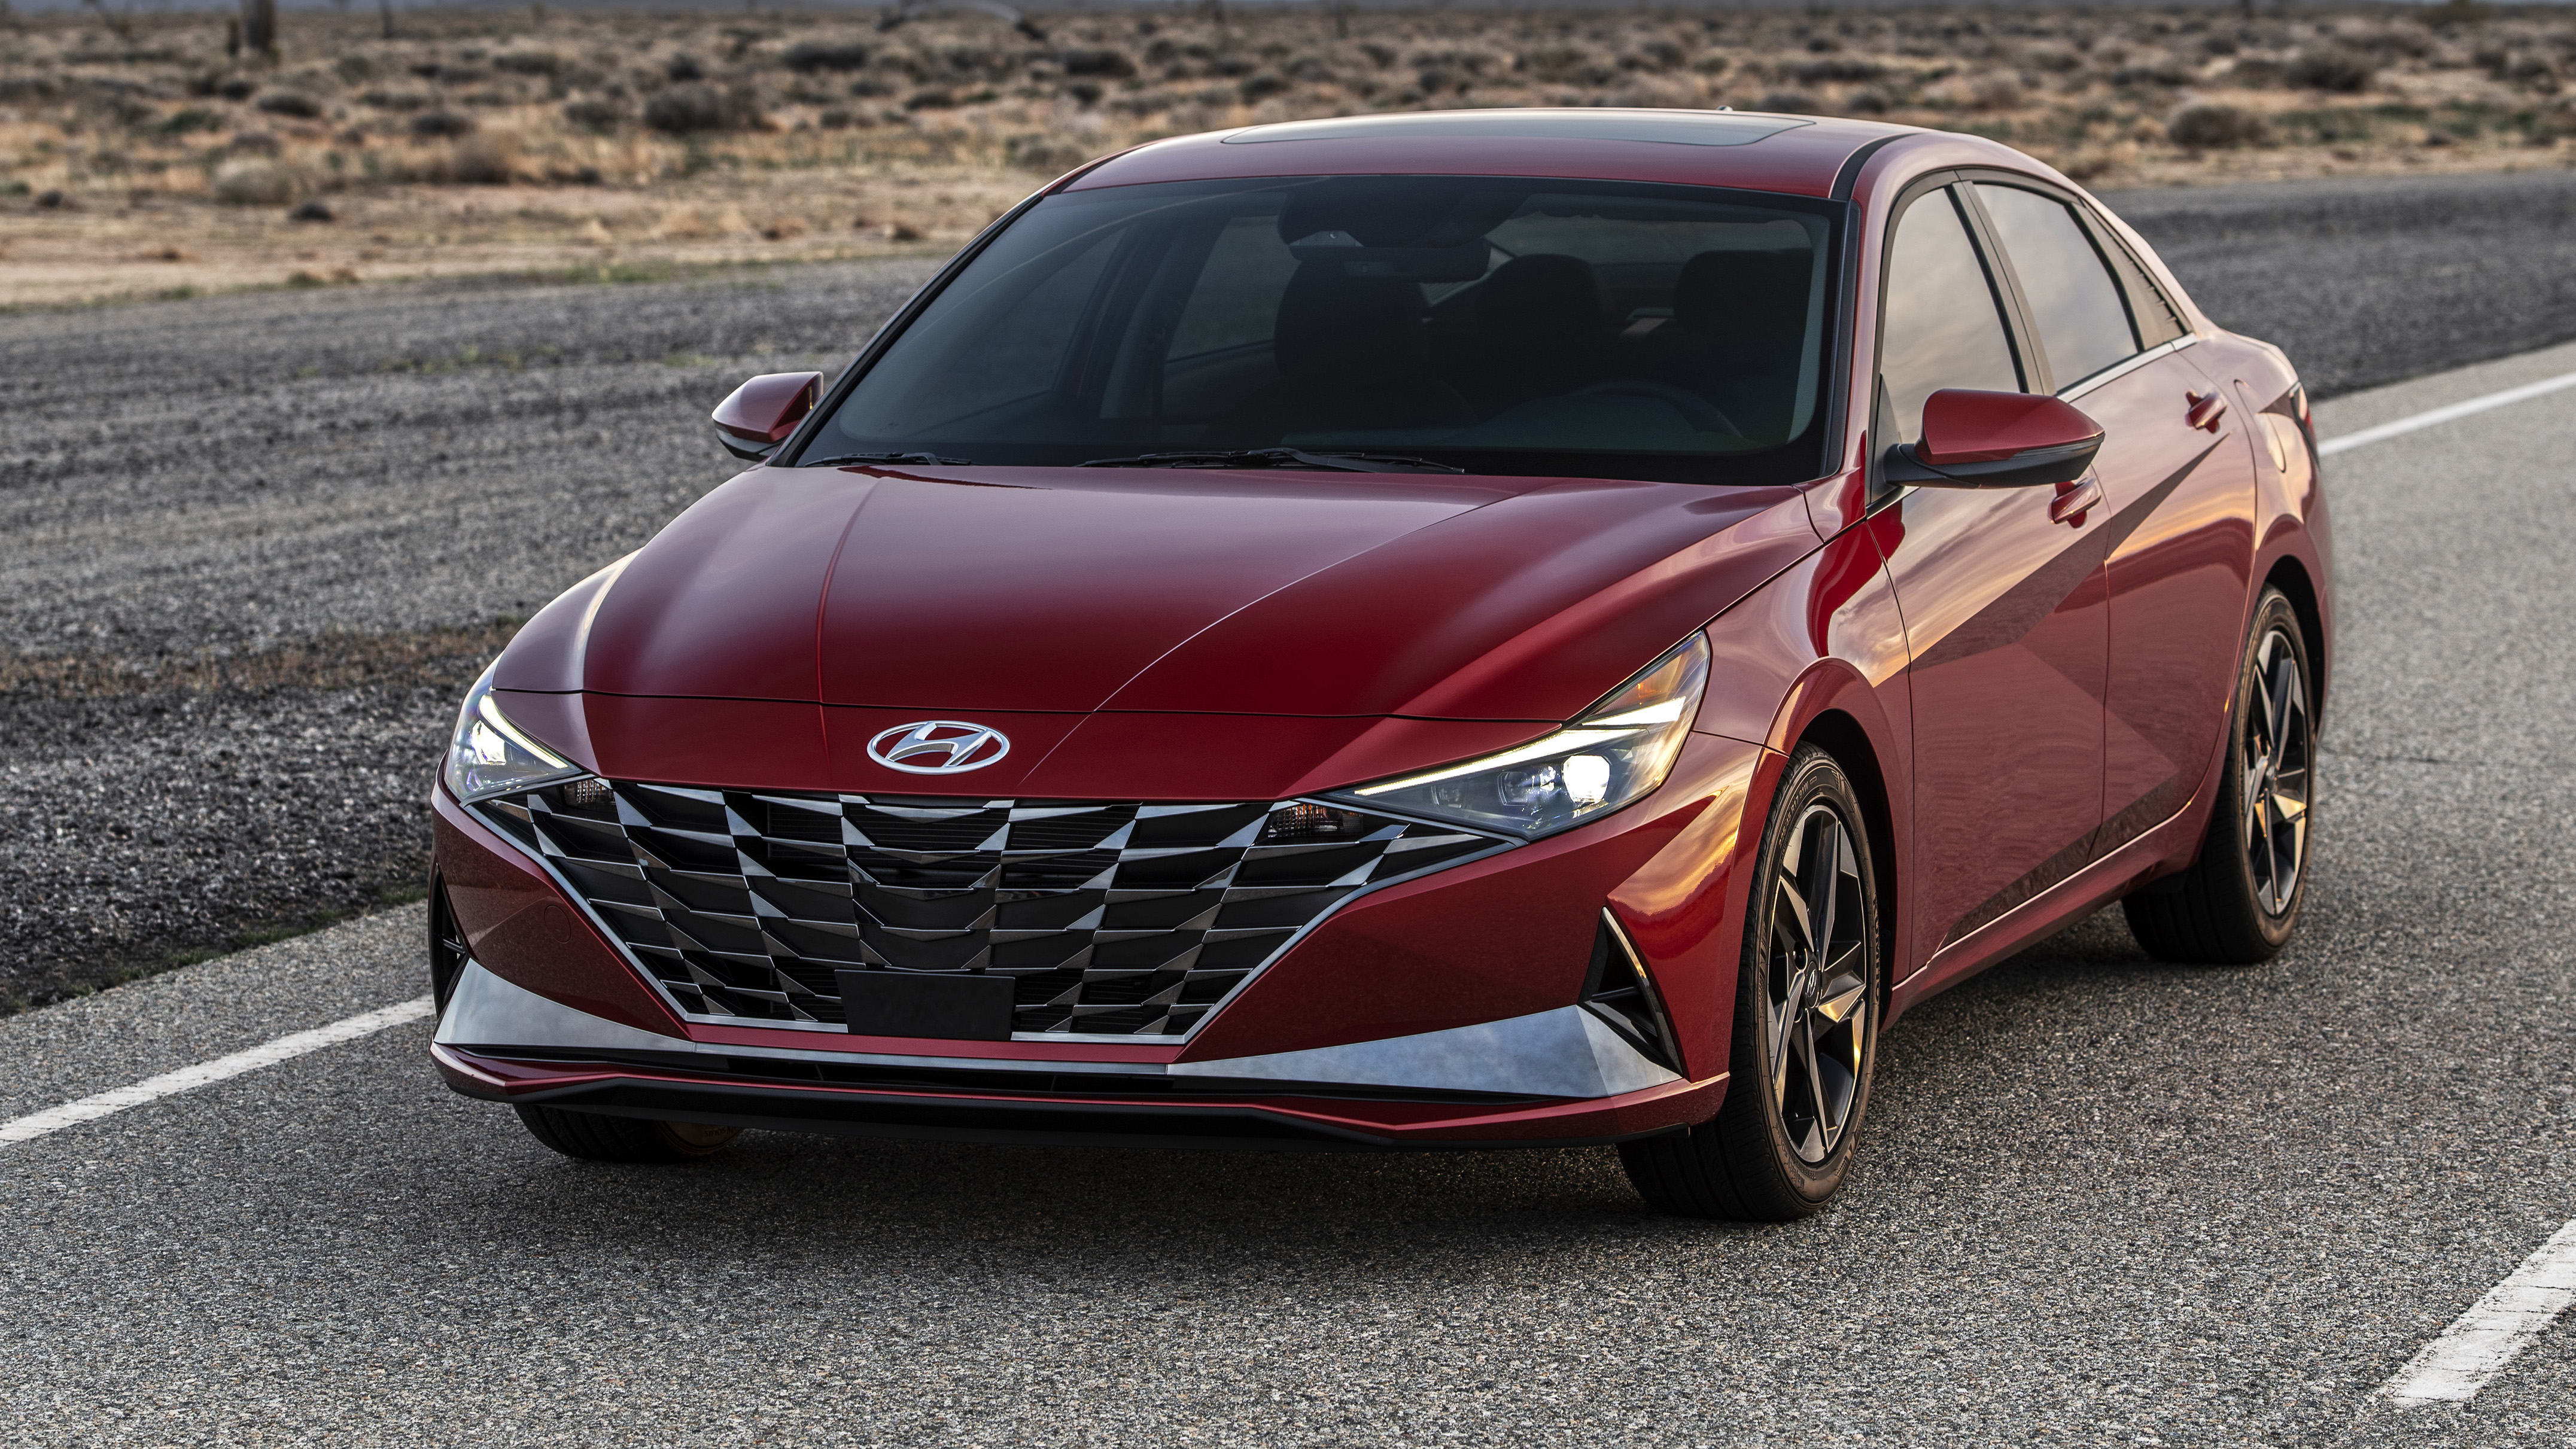car: (421, 106, 2335, 1214)
